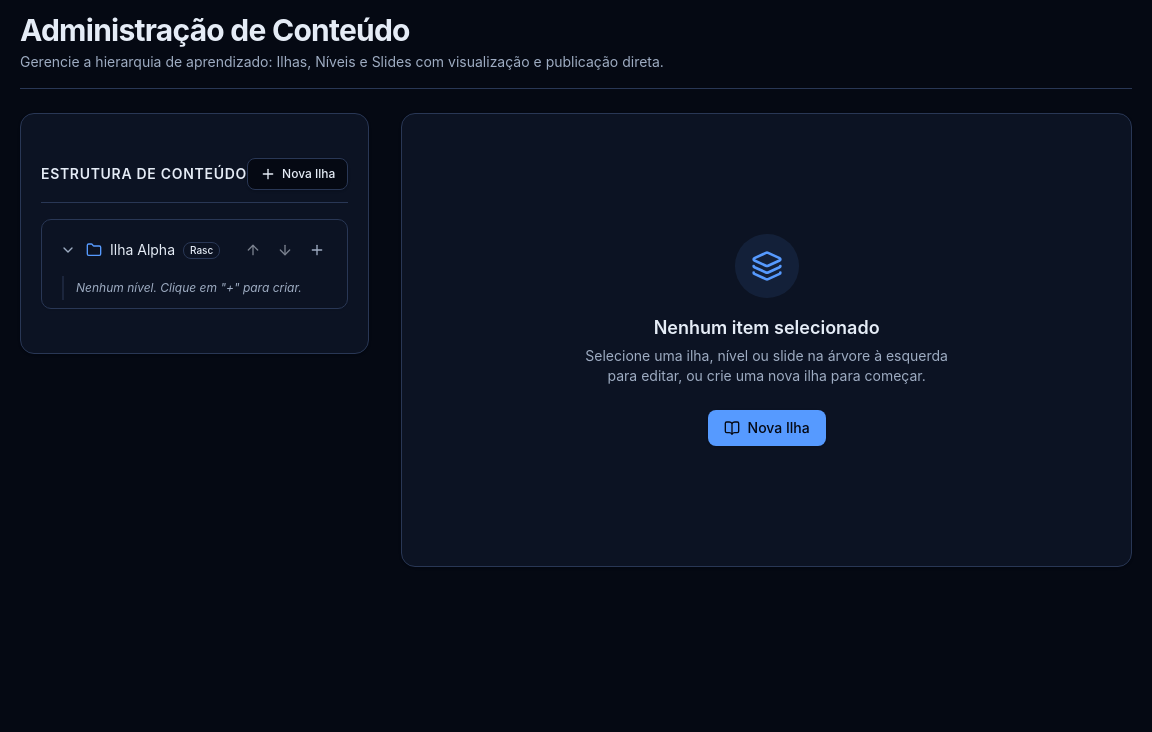
Test: AdminContentView › opens create island form on Nova Ilha click
Click the button "Nova Ilha" next to "Estrutura de Conteúdo" at (298, 174), box x1=247 y1=158 x2=348 y2=190
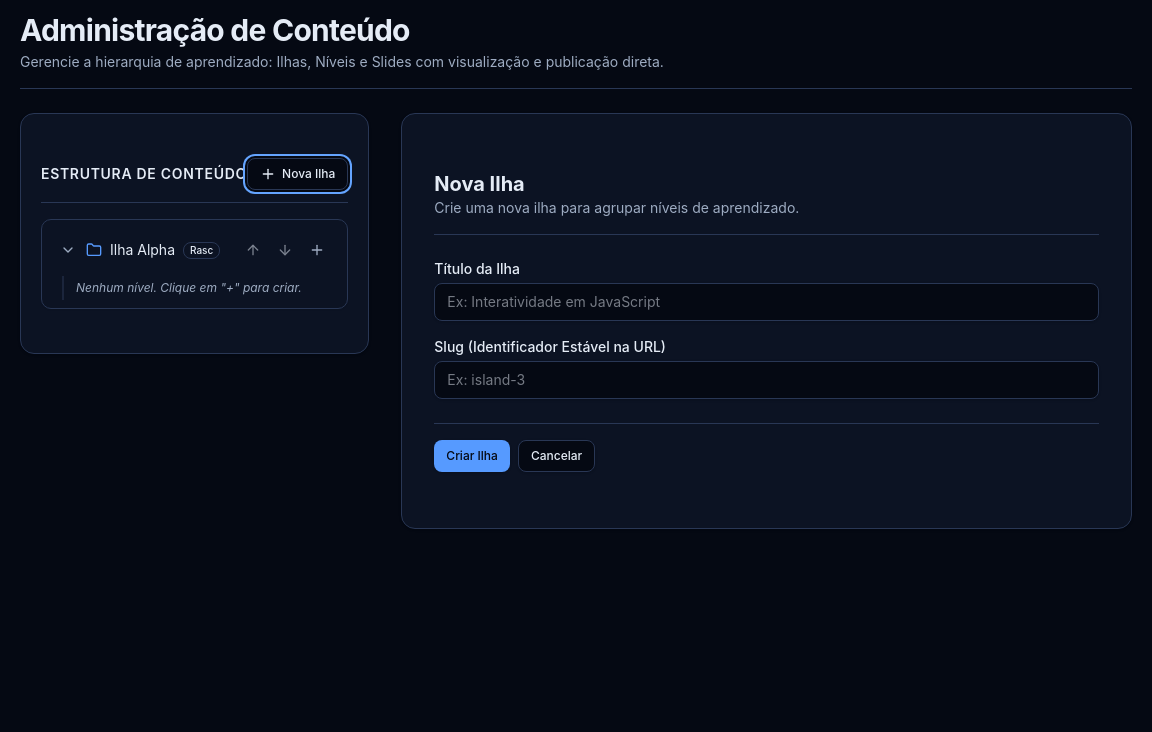
Expected: the heading "Nova Ilha" is shown, x1=434 y1=172 x2=525 y2=196
Now the field labelled "Título da Ilha" is shown, box x1=434 y1=283 x2=1099 y2=321
